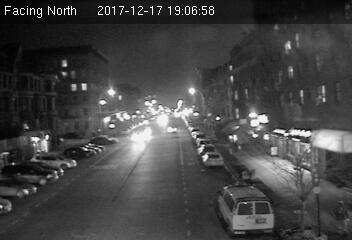car: (201, 151, 223, 167)
police: (214, 181, 277, 237)
